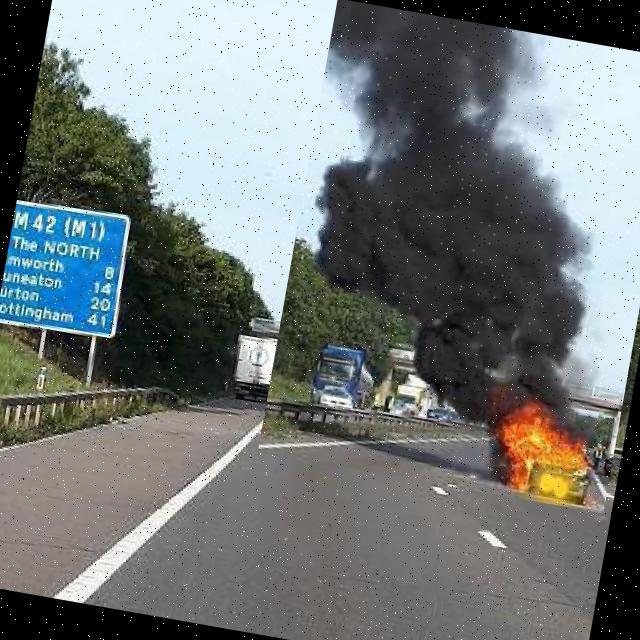fire: (257, 0, 640, 513)
